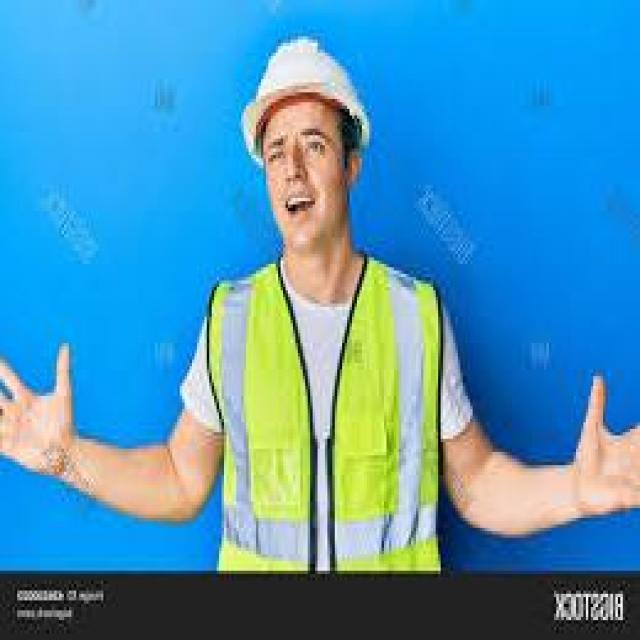Reflective-Jacket: (199, 257, 448, 574)
Safety-Helmet: (239, 30, 374, 152)
